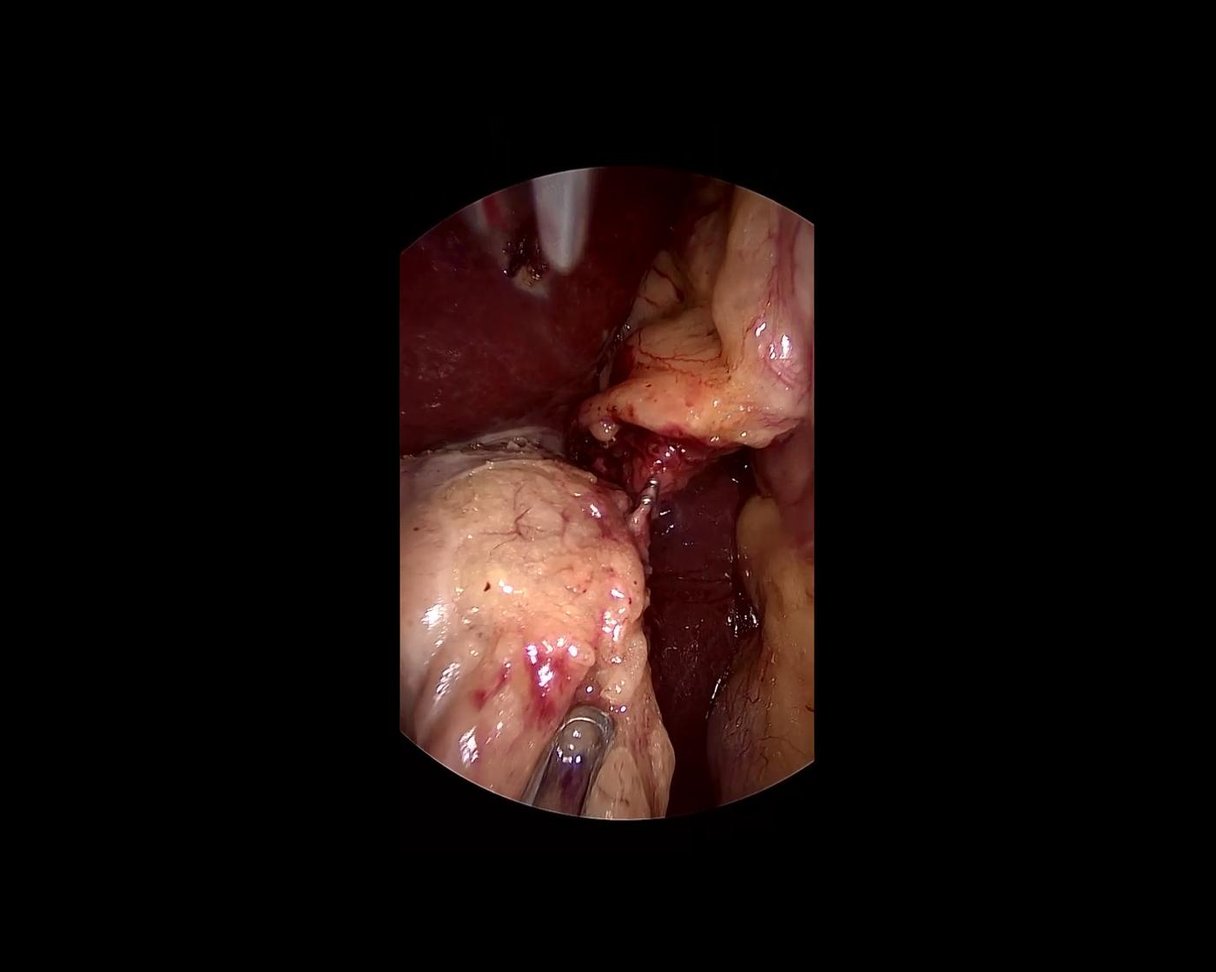Forceps: (515, 684, 620, 818)
Gallbladder: (401, 443, 677, 818)
Liver: (366, 155, 725, 455), (653, 456, 752, 813)
